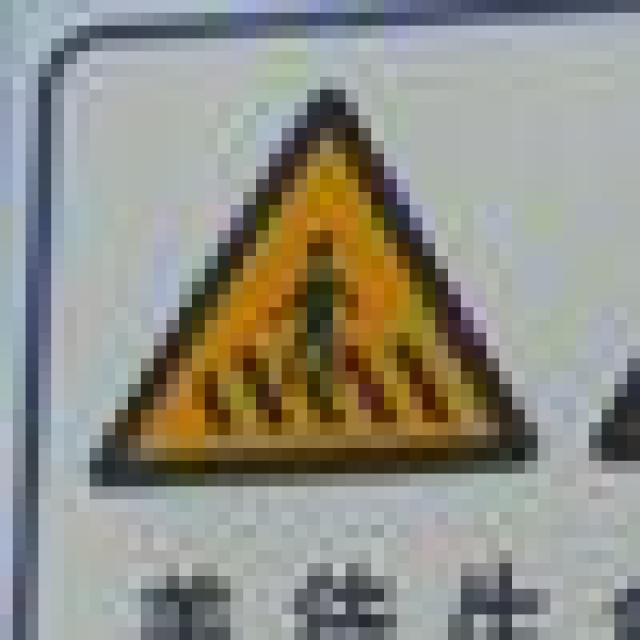pass_either_side: (64, 64, 525, 461)
